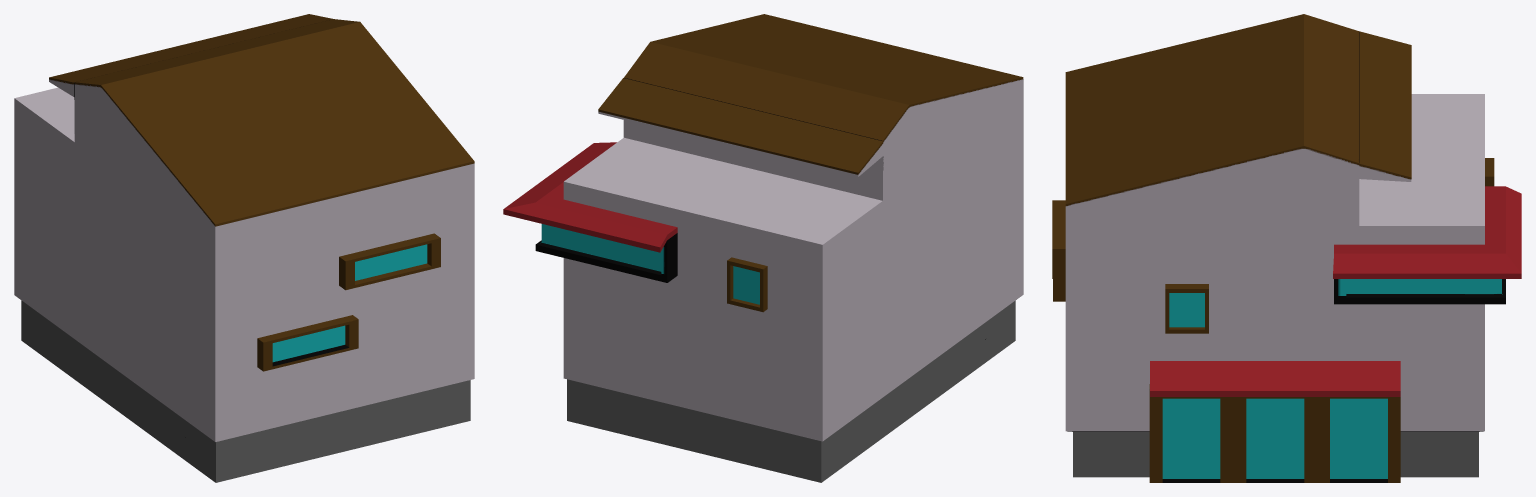
Rendered from building1.fbx.
3 renders of one model, left to right at view 1: azimuth 30°, elevation 25°; view 2: azimuth 150°, elevation 25°; view 3: azimuth 270°, elevation 25°, orthographic. The views are drawn at different scales.
Parts seen in each view (by area): view 1: building; view 2: building; view 3: building.
Part boxes in pixels (x1,y1,x2,y2): building: (14, 14, 474, 482); building: (503, 14, 1023, 482); building: (1052, 14, 1521, 482).
Size of the model in its own units: 1884 by 1894 by 2429.
